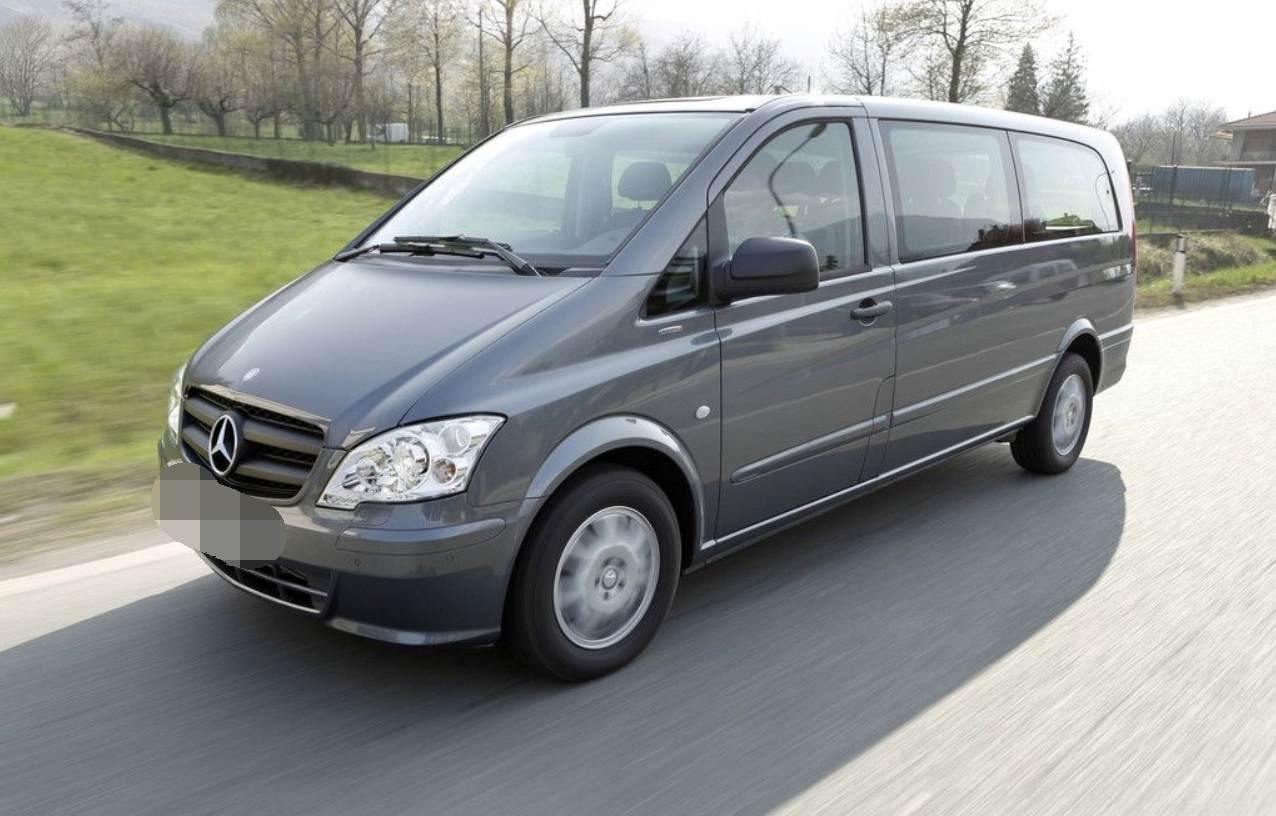minibus: (149, 91, 1137, 666)
